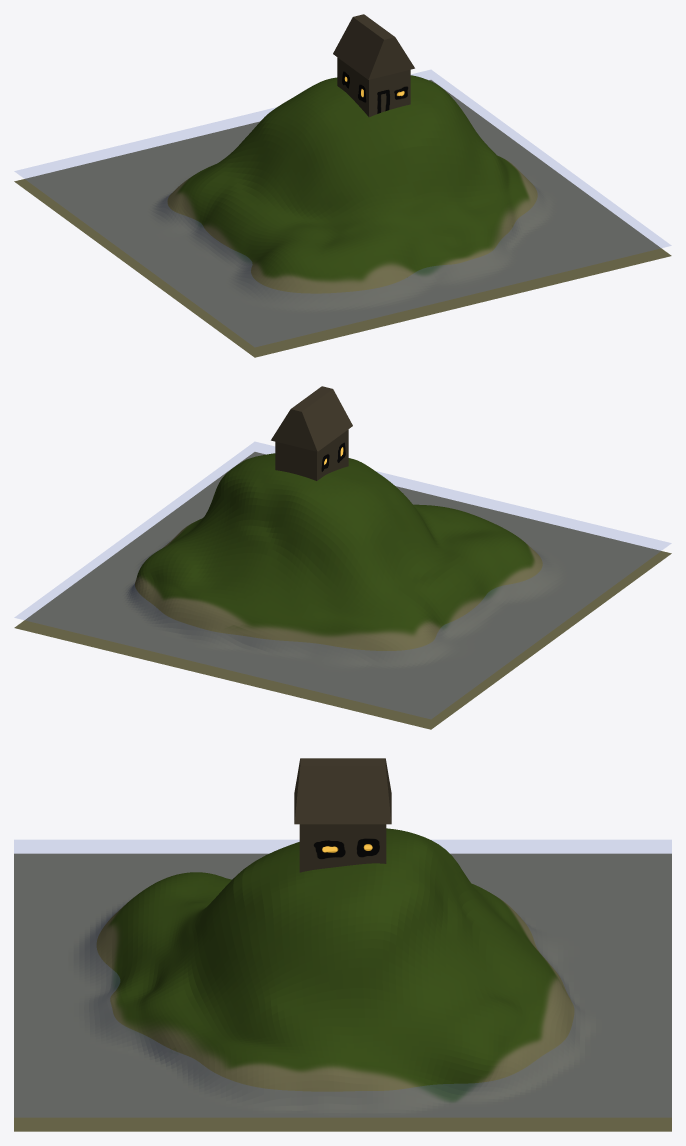
Rendered from cottage.glb.
3 views of the same model, one above another, from view 1: azimuth 30°, elevation 25°; view 2: azimuth 150°, elevation 25°; view 3: azimuth 270°, elevation 25° (orthographic). The views are drawn at different scales.
Parts seen in each view (by area): view 1: Plane, Plane.001, Cube; view 2: Plane, Plane.001, Cube; view 3: Plane, Plane.001, Cube.
Part boxes in pixels (box(x1,y1,x2,y2)): Plane: box(14, 75, 671, 357); Plane.001: box(15, 70, 670, 346); Cube: box(333, 14, 414, 117); Plane: box(14, 452, 671, 729); Plane.001: box(15, 442, 670, 718); Cube: box(271, 386, 352, 480); Plane: box(14, 828, 671, 1131); Plane.001: box(14, 840, 671, 1117); Cube: box(294, 758, 391, 872).
Bounding box in the file's own units: 20 × 8.44 × 20.
Materials: 3 (3 with a texture image).
